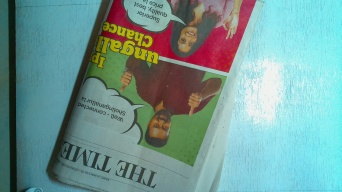p: (54, 1, 256, 189)
